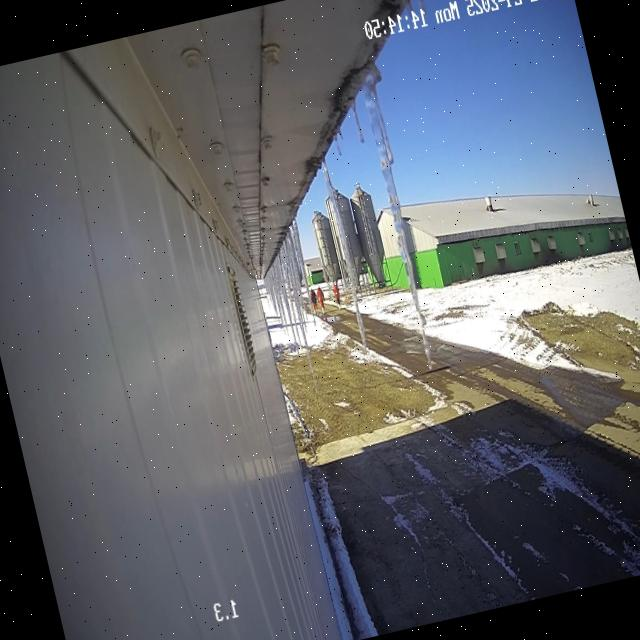Red uniform: (317, 286, 325, 313), (309, 288, 317, 313), (333, 281, 340, 307)
